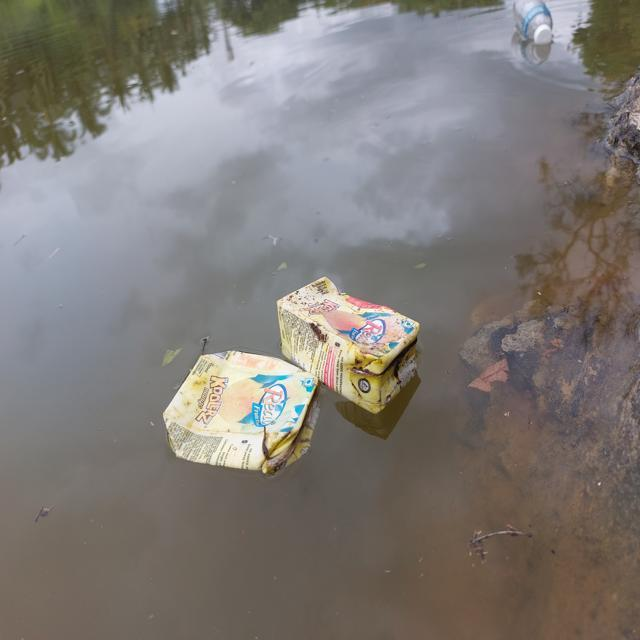paper: (266, 273, 447, 412), (162, 342, 328, 482)
